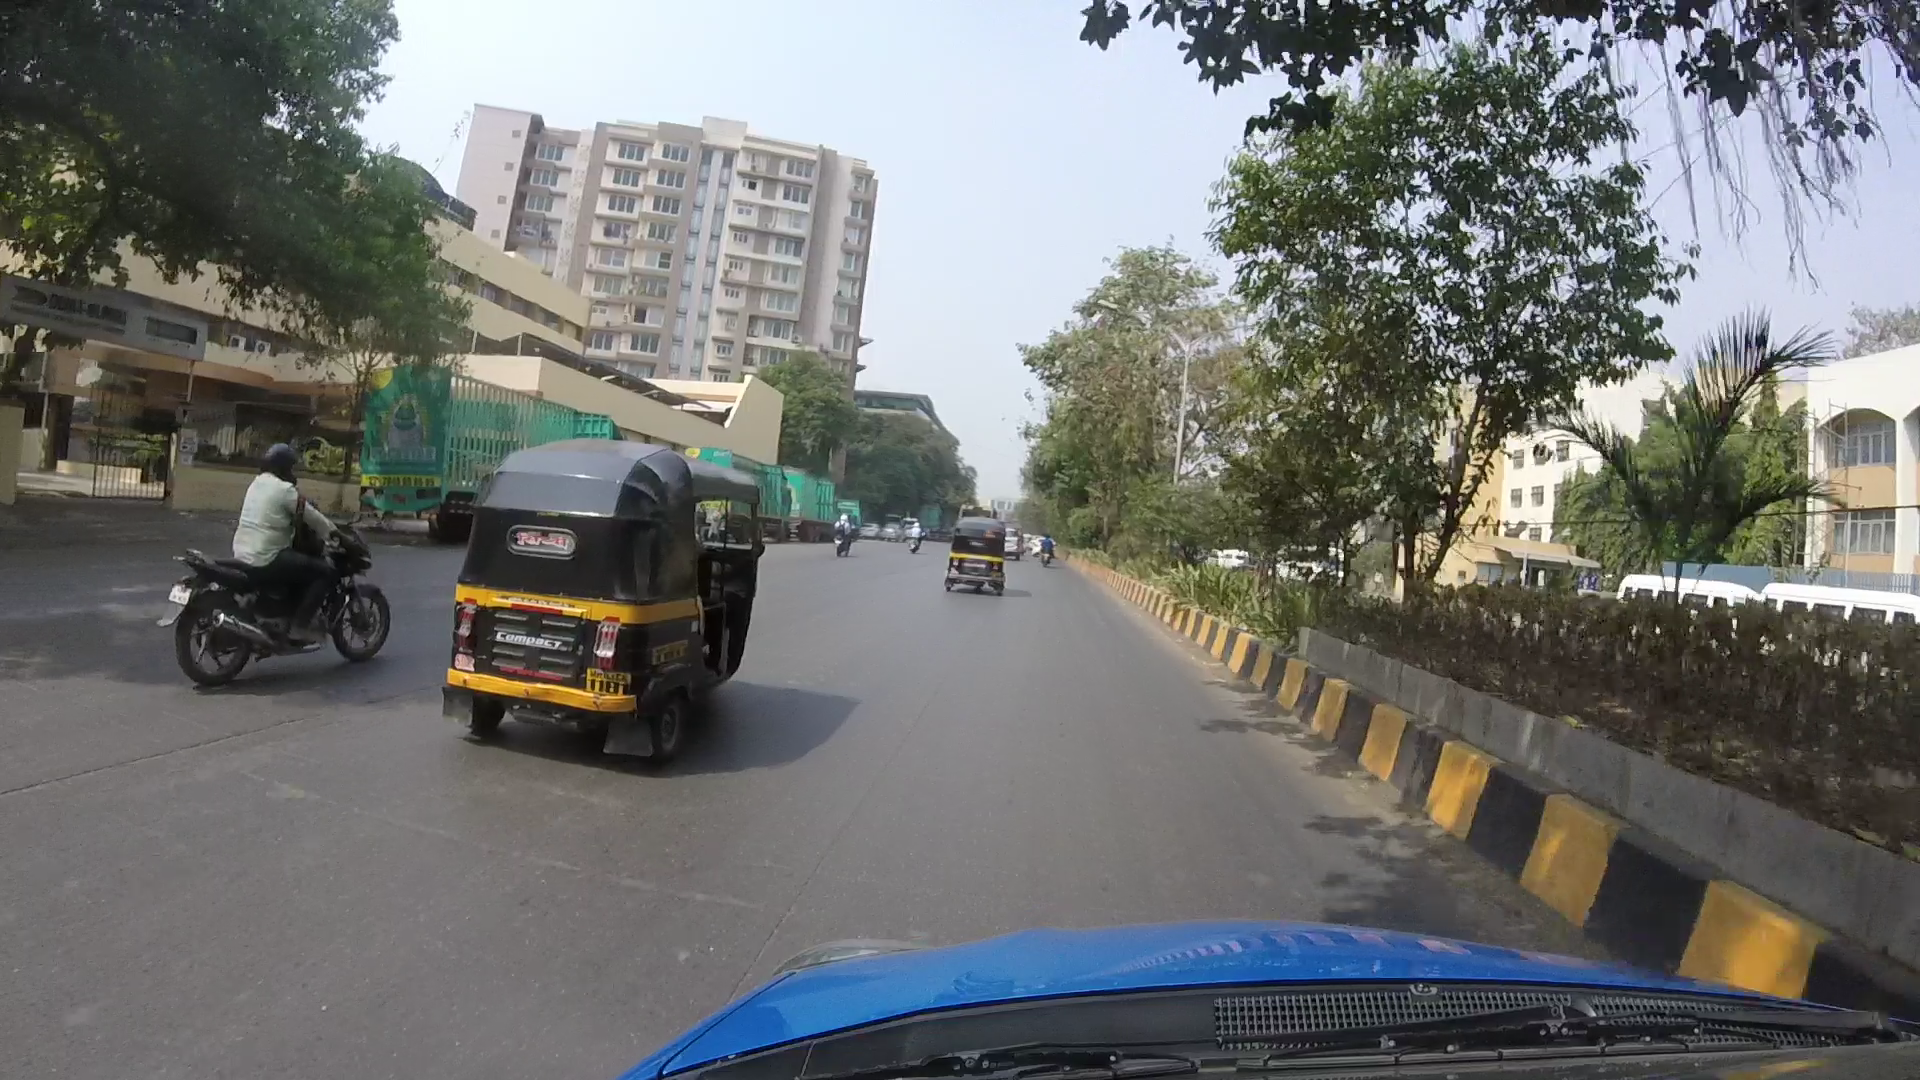bike/scooter: (175, 436, 393, 680)
rickshaw: (452, 430, 764, 760), (934, 516, 1005, 597)
